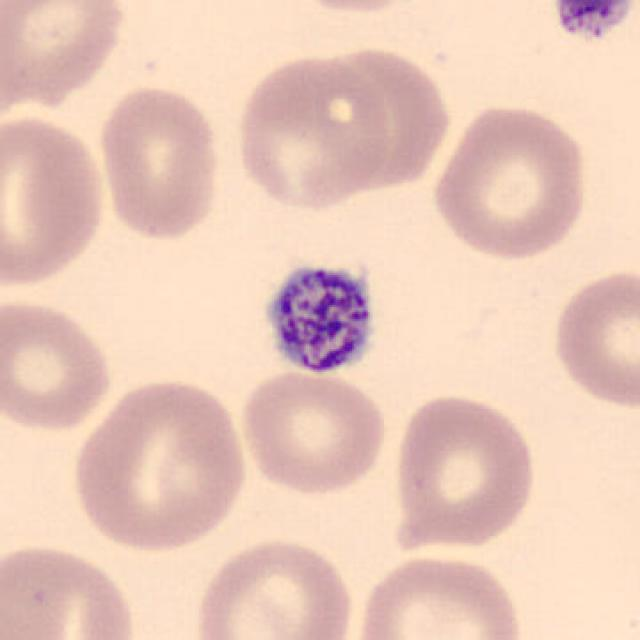Platelets: (258, 257, 380, 379), (544, 2, 636, 44)
RBC: (68, 372, 252, 555), (428, 100, 594, 264), (231, 50, 395, 212), (388, 390, 540, 554), (94, 81, 228, 245), (313, 44, 457, 196), (235, 365, 391, 499), (0, 109, 110, 293), (190, 532, 358, 640), (0, 292, 117, 435), (348, 550, 530, 640), (0, 536, 144, 640), (0, 0, 132, 113), (548, 262, 638, 412), (276, 0, 434, 16)
